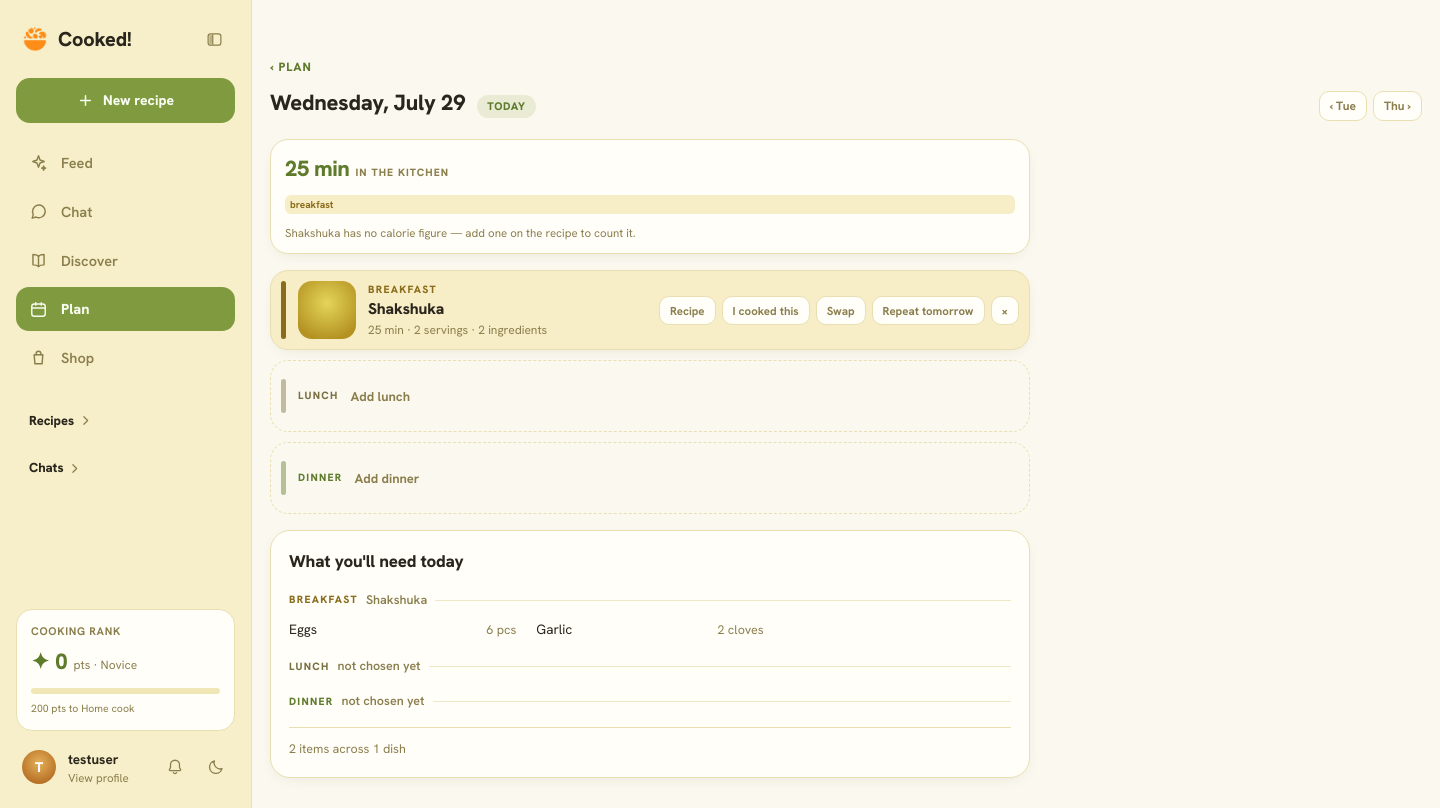
Scenario: the day page › stays open and advances to the next empty slot after placing
Click the button with aria-label "add a recipe for lunch" at [318, 395], box [270,360,1030,432]
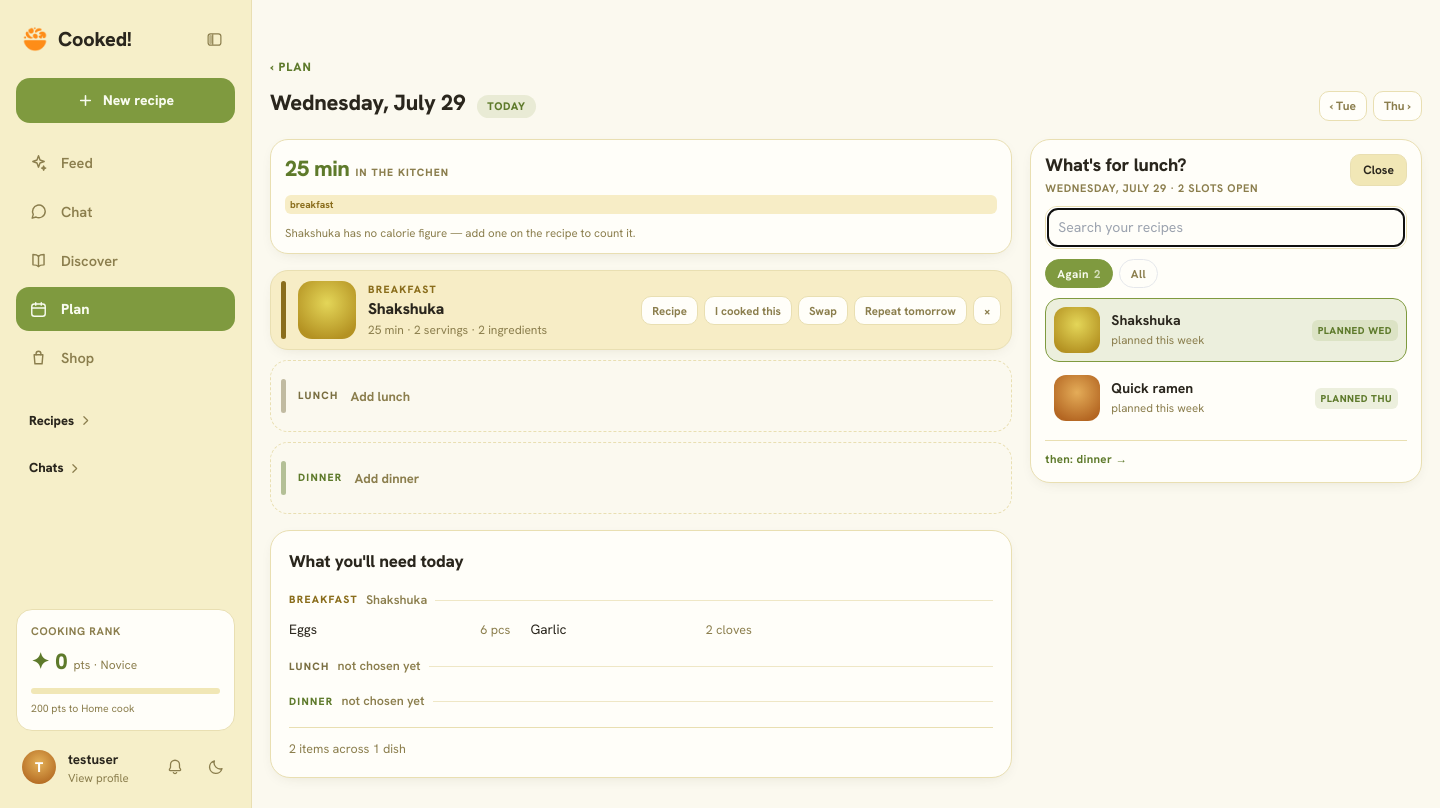
Click the tab "All" at [1139, 274], box [1119,259,1158,288]
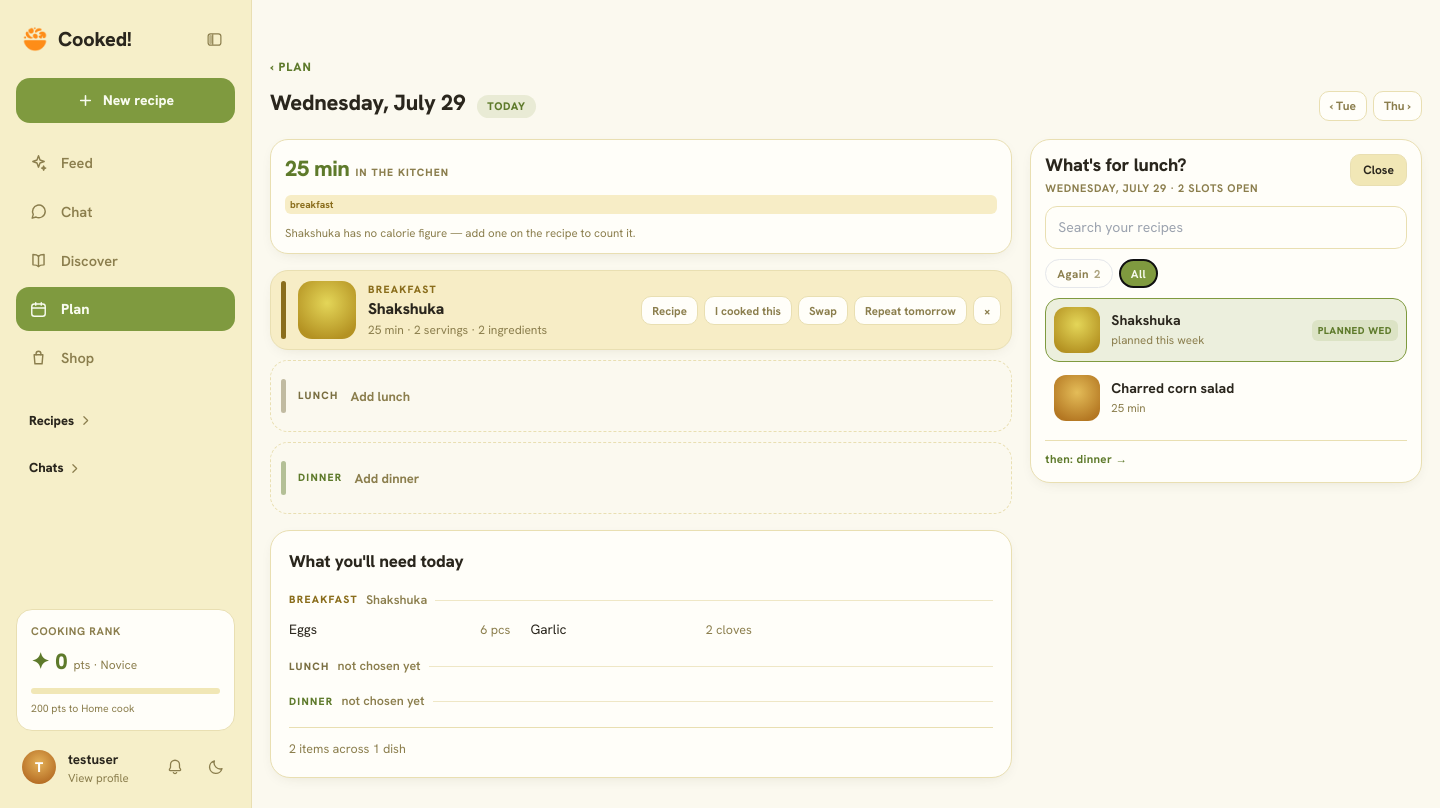
Click the button "Charred corn salad 25 min" at [1226, 398], box [1045,366,1407,430]
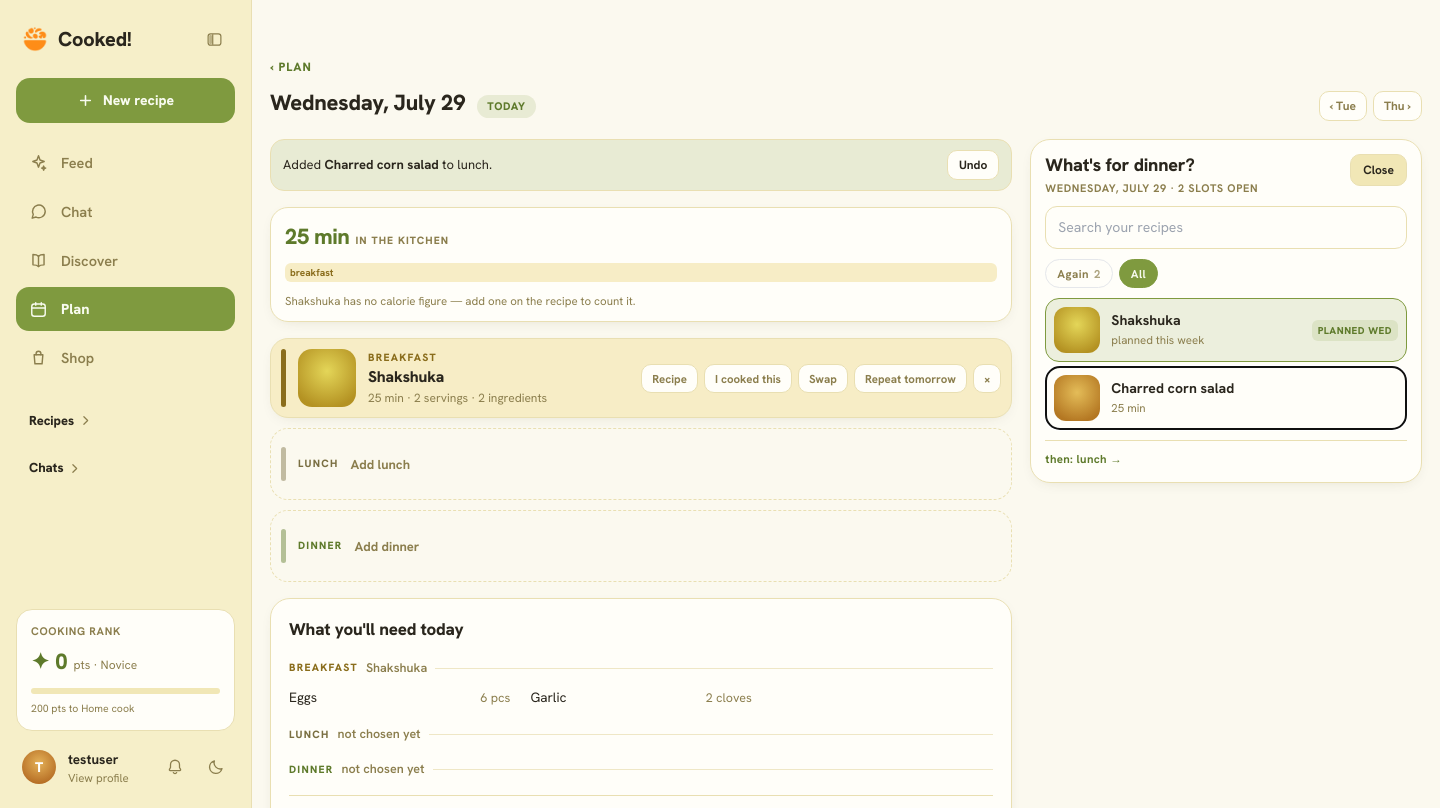
Now the heading "What's for dinner?" is shown, box [1045,153,1194,176]
